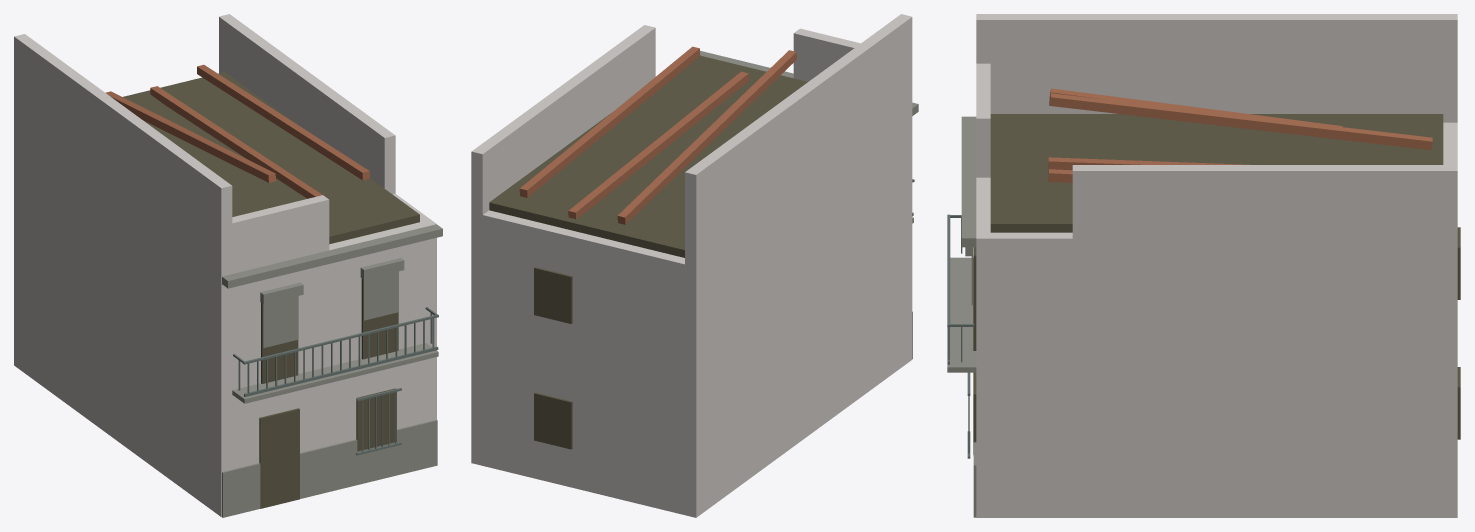
Rendered from SM_TresAlturas_v4_Ruina_LOD0.fbx.
3 views of the same model, side by side, from view 1: azimuth 30°, elevation 25°; view 2: azimuth 150°, elevation 25°; view 3: azimuth 270°, elevation 25° (orthographic). The views are drawn at different scales.
Parts seen in each view (by area): view 1: SM_pueblo_valenciano_v14_LOD0; view 2: SM_pueblo_valenciano_v14_LOD0; view 3: SM_pueblo_valenciano_v14_LOD0.
Part boxes in pixels (x1,y1,x2,y2): SM_pueblo_valenciano_v14_LOD0: (14, 14, 442, 517); SM_pueblo_valenciano_v14_LOD0: (471, 14, 918, 517); SM_pueblo_valenciano_v14_LOD0: (947, 14, 1460, 517).
Size of the model in its own units: 6 by 8.75 by 10.66.
